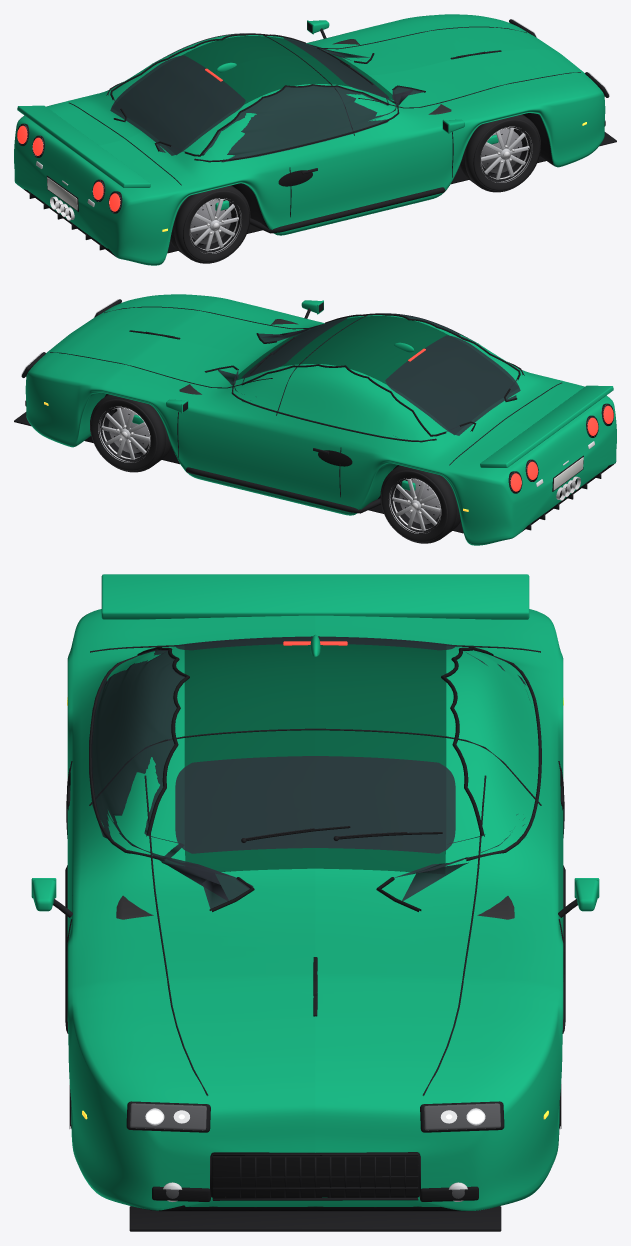
3 views of the same model, one above another, from view 1: azimuth 30°, elevation 25°; view 2: azimuth 150°, elevation 25°; view 3: azimuth 270°, elevation 25° (orthographic). The views are drawn at different scales.
Parts seen in each view (by area): view 1: body, glass_screen_1, glass_side_R, wing_lip, wheel_RR_tyre, wheel_FR_tyre, glass_screen_0, side_skirt, wheel_RR_disc, wheel_FR_disc, seal_R.001, wheel_FR_barrel (+6 smaller); view 2: body, glass_screen_1, wing_lip, wheel_RL_tyre, wheel_FL_tyre, glass_screen_0, side_skirt.001, wheel_RL_disc, wheel_FL_disc, seal_L.001, glass_side_R, wheel_FL_barrel (+6 smaller); view 3: body, glass_screen_0, wing_lip, glass_side_R, grille_back, splitter, head_housing.001, head_housing, glass_screen_1, head_lens, head_lens.001, glass_side_L (+6 smaller).
Part boxes in pixels (x1,y1,x2,y2): body: [14, 14, 605, 265]; glass_screen_1: [110, 55, 245, 155]; glass_side_R: [156, 85, 423, 162]; wing_lip: [17, 105, 150, 187]; wheel_RR_tyre: [170, 185, 250, 263]; wheel_FR_tyre: [459, 114, 540, 192]; glass_screen_0: [283, 38, 388, 98]; side_skirt: [250, 187, 445, 233]; wheel_RR_disc: [190, 199, 231, 244]; wheel_FR_disc: [481, 128, 522, 173]; seal_R.001: [184, 84, 389, 156]; wheel_FR_barrel: [480, 127, 530, 180]; body: [25, 294, 616, 545]; glass_screen_1: [385, 335, 520, 435]; wing_lip: [480, 385, 613, 467]; wheel_RL_tyre: [380, 465, 460, 543]; wheel_FL_tyre: [90, 394, 171, 472]; glass_screen_0: [242, 318, 347, 378]; side_skirt.001: [185, 467, 380, 513]; wheel_RL_disc: [399, 479, 440, 524]; wheel_FL_disc: [108, 408, 149, 453]; seal_L.001: [241, 364, 446, 436]; glass_side_R: [259, 313, 517, 400]; wheel_FL_barrel: [100, 407, 150, 460]; body: [67, 609, 563, 1211]; glass_screen_0: [175, 756, 455, 853]; wing_lip: [101, 574, 529, 619]; glass_side_R: [89, 649, 253, 910]; grille_back: [210, 1152, 420, 1197]; splitter: [129, 1206, 501, 1231]; head_housing.001: [420, 1101, 504, 1132]; head_housing: [126, 1101, 210, 1132]; glass_screen_1: [175, 636, 455, 650]; head_lens: [130, 1103, 206, 1130]; head_lens.001: [424, 1103, 500, 1130]; glass_side_L: [395, 649, 529, 900].
Bounding box in the file's own units: 4.77 × 1.24 × 2.3.
